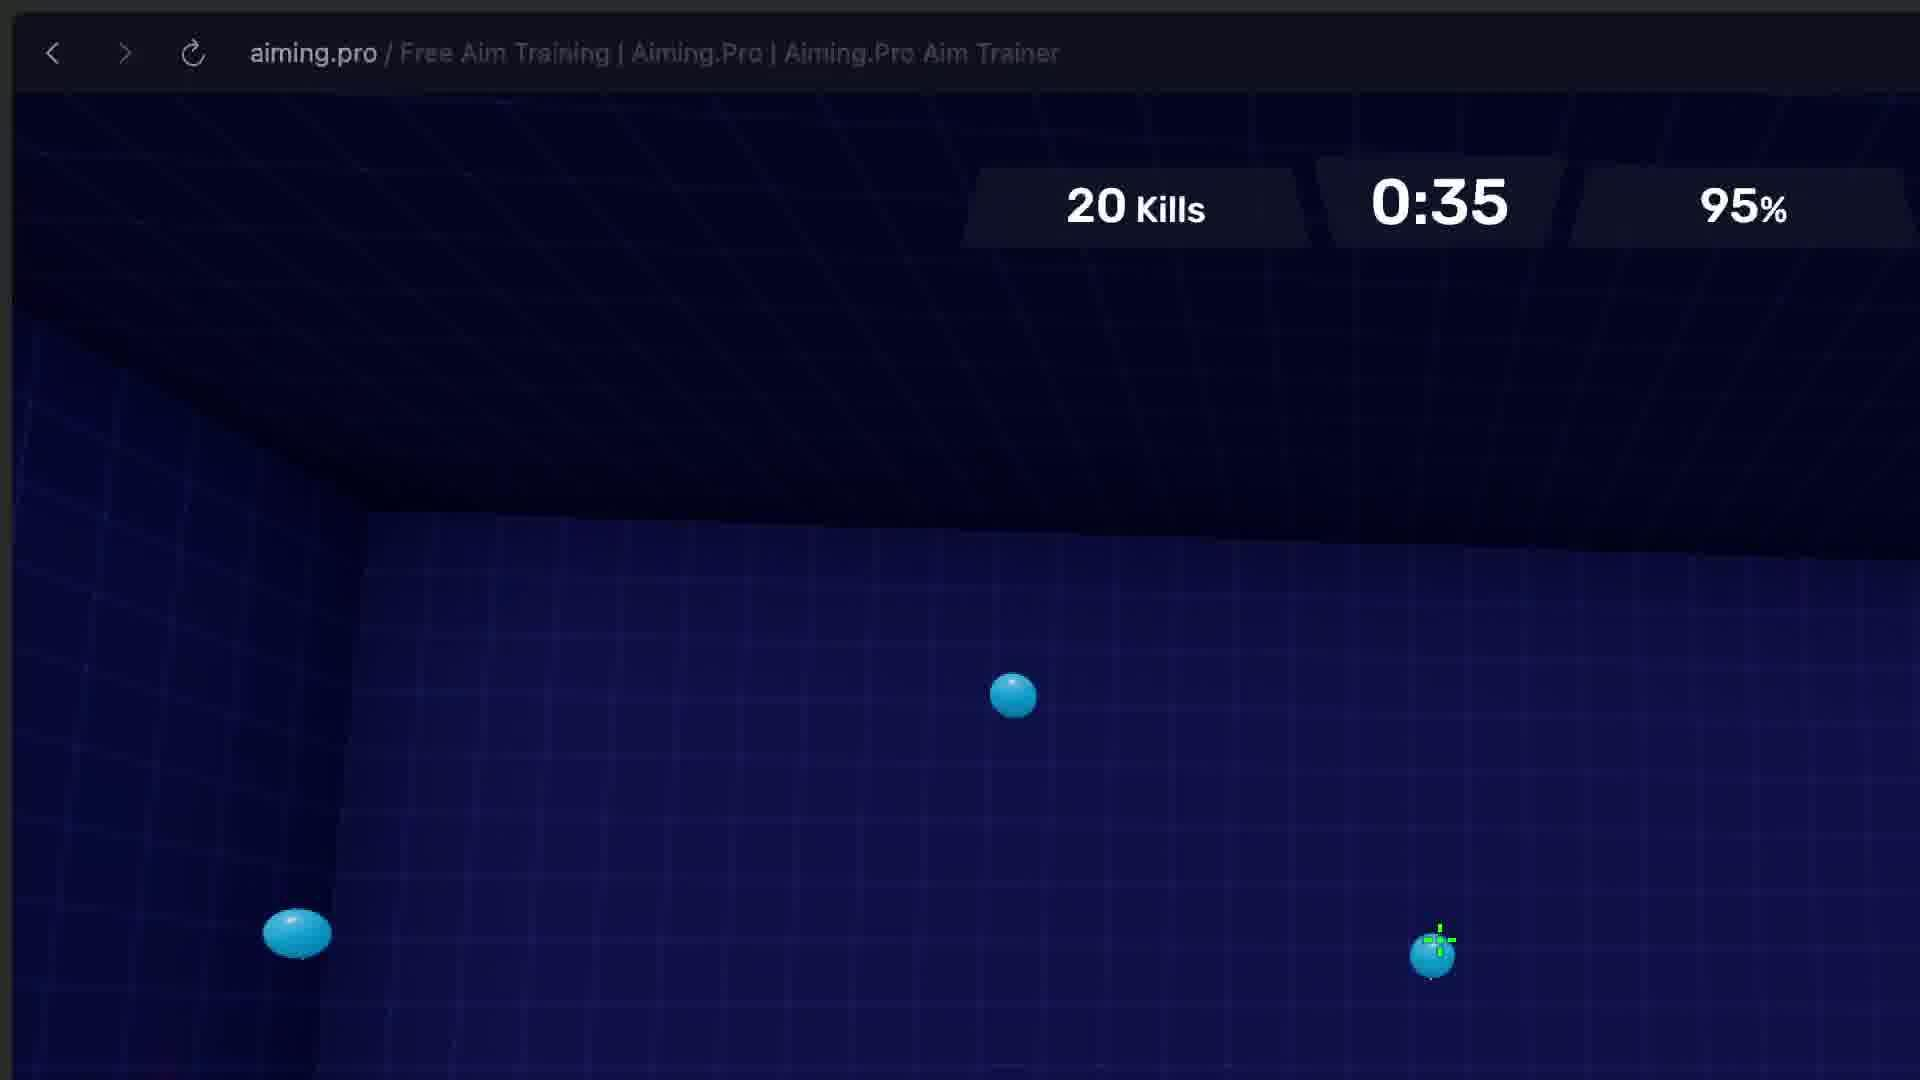target: (262, 909, 332, 957), (1410, 923, 1456, 978), (989, 673, 1036, 717)
